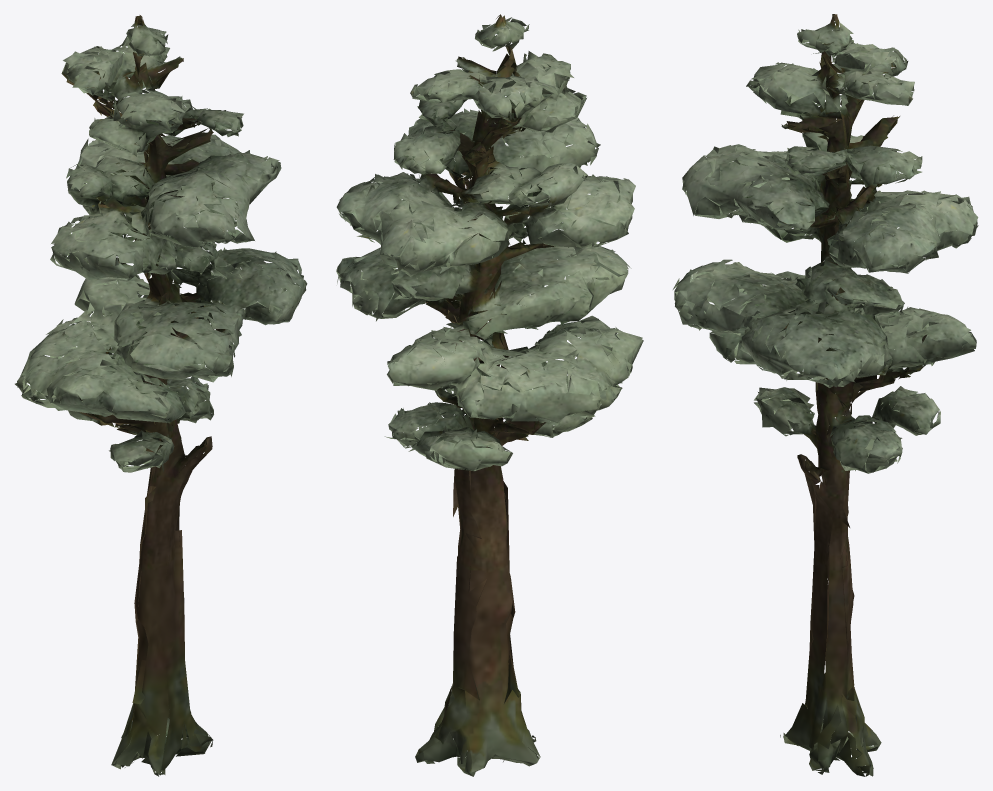
Rendered from tree_tall_a_meshy_hd_l50.glb.
3 renders of one model, left to right at view 1: azimuth 30°, elevation 25°; view 2: azimuth 150°, elevation 25°; view 3: azimuth 270°, elevation 25°, orthographic. The views are drawn at different scales.
Visible parts, largest first — view 1: tree_tall_a_meshy_hd; view 2: tree_tall_a_meshy_hd; view 3: tree_tall_a_meshy_hd.
Boxes of the visible parts, left/top/right/bottom form: tree_tall_a_meshy_hd: left=15, top=15, right=307, bottom=776; tree_tall_a_meshy_hd: left=336, top=14, right=643, bottom=776; tree_tall_a_meshy_hd: left=673, top=14, right=978, bottom=776.
Bounding box in the file's own units: 1.99 × 5.12 × 1.94.
1 material, 1 textured.
